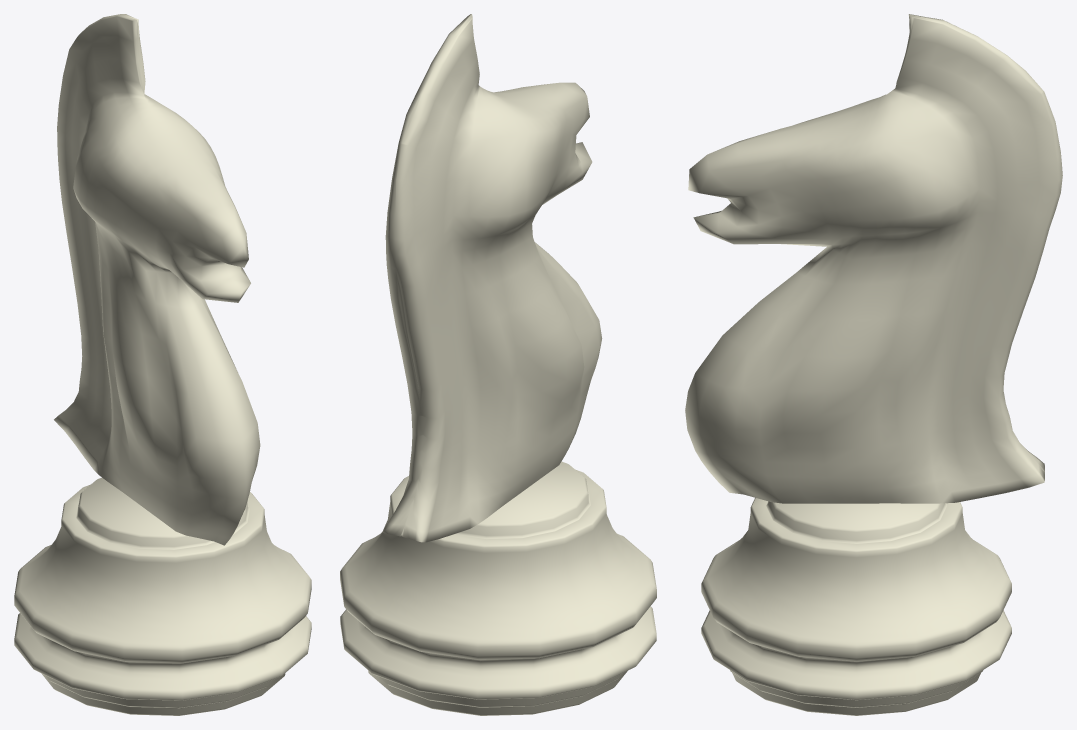
3 renders of one model, left to right at view 1: azimuth 30°, elevation 25°; view 2: azimuth 150°, elevation 25°; view 3: azimuth 270°, elevation 25°, orthographic. The views are drawn at different scales.
Visible parts, largest first — view 1: Knight_03_2; view 2: Knight_03_2; view 3: Knight_03_2.
Boxes of the visible parts, bbox=[...] form: Knight_03_2: bbox=[14, 14, 311, 715]; Knight_03_2: bbox=[340, 14, 656, 715]; Knight_03_2: bbox=[685, 14, 1062, 715].
Bounding box in the file's own units: 0.2876 × 0.6619 × 0.35.
